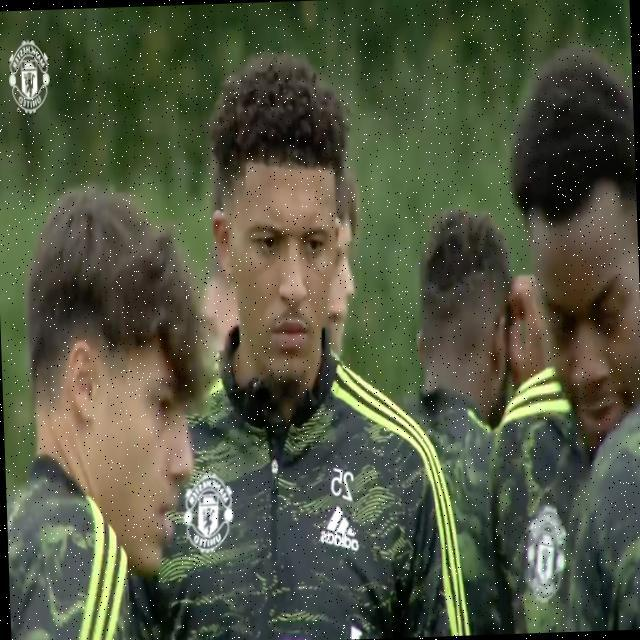Adidas: (318, 505, 360, 555)
